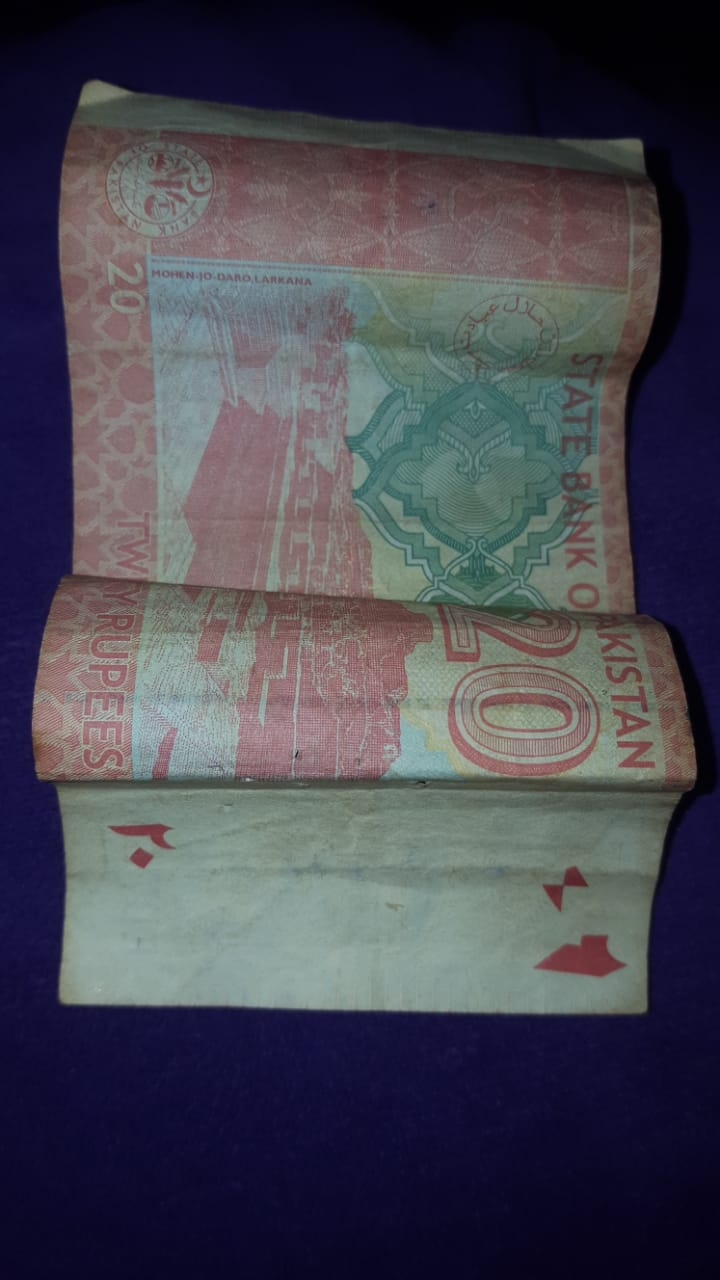20 rupee: (14, 44, 698, 1122)
